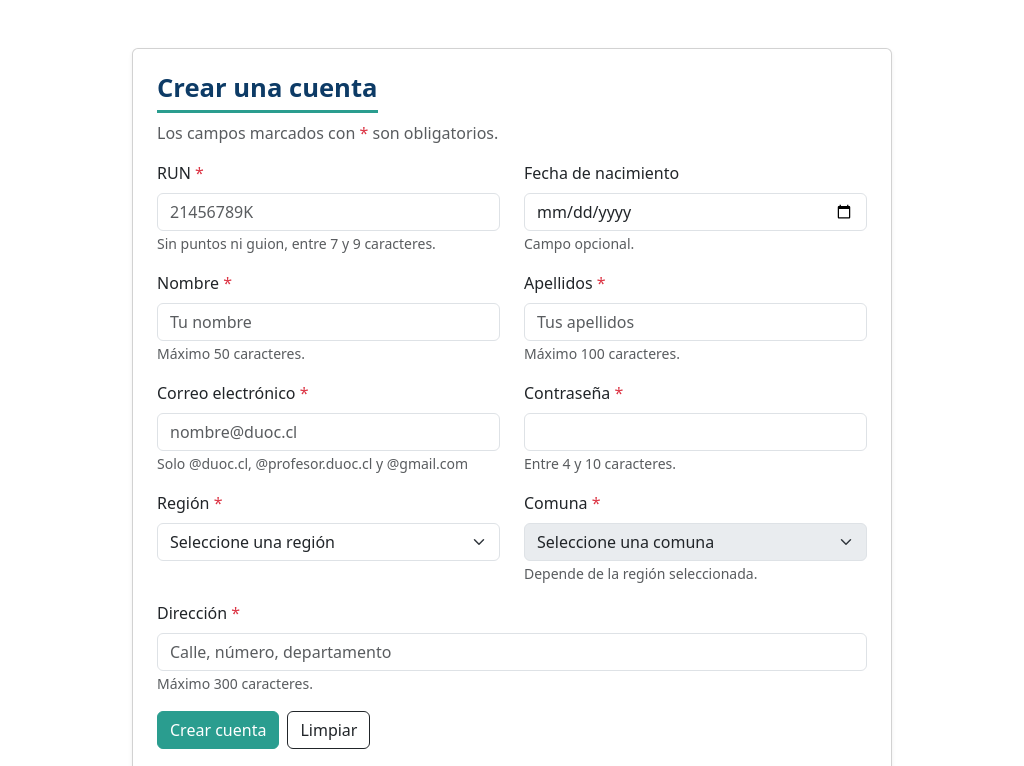
Formulario de registro › Al enviar vacío muestra los errores de los campos obligatorios
Check: the text "El RUN es obligatorio." is not shown
Click the button "Crear cuenta": point(218, 730) [157,711,279,749]
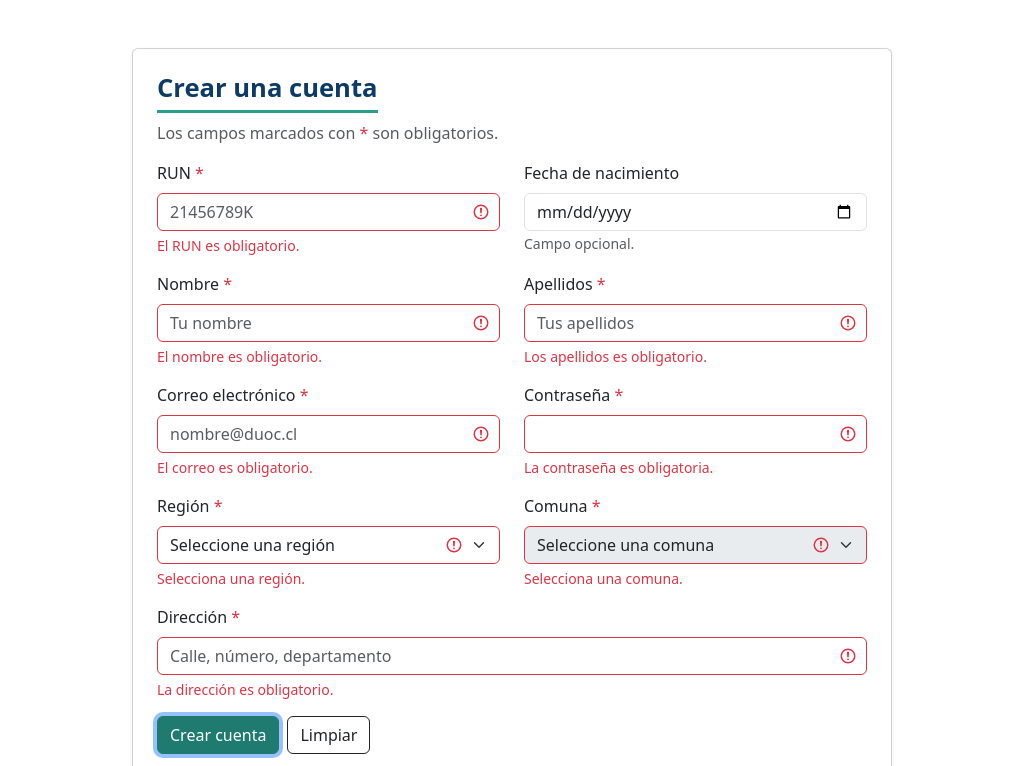
Check: the text "El RUN es obligatorio." is shown, box [157,236,299,255]
Check: the text "El correo es obligatorio." is shown, box [157,458,313,477]
Check: the text "Selecciona una región." is shown, box [157,569,305,588]
